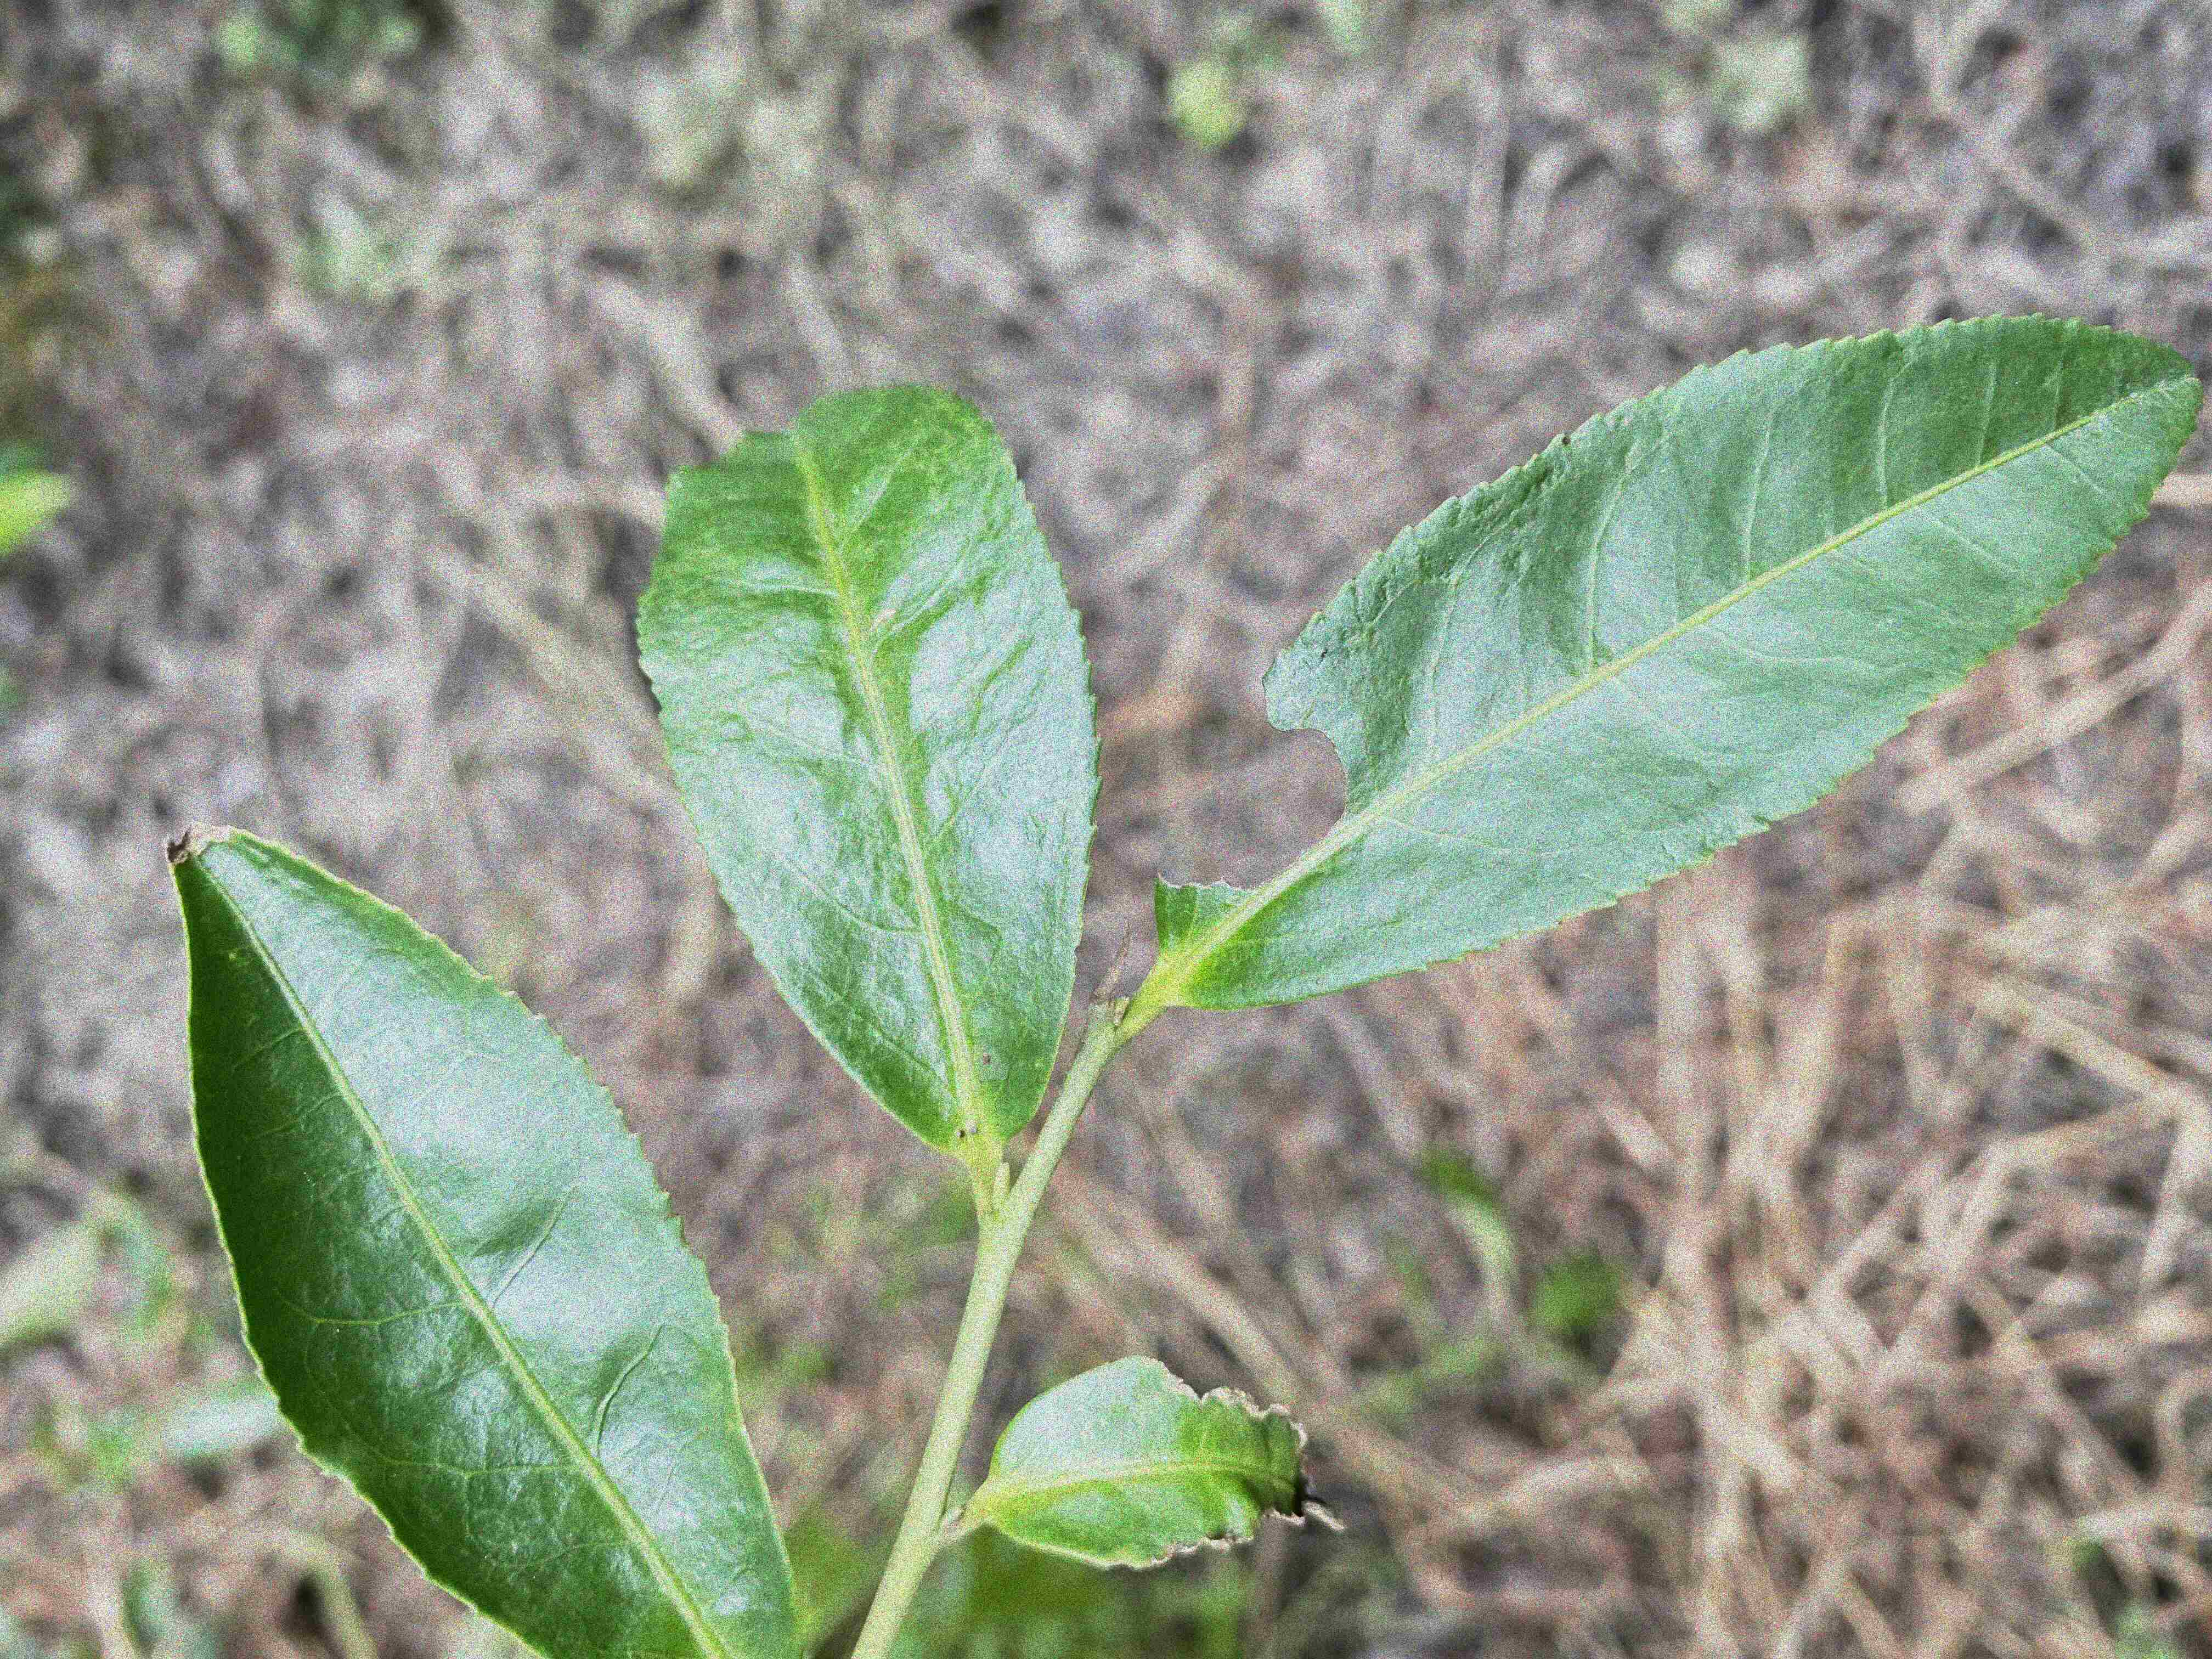chihuo_high: (975, 1351, 1350, 1574)
chihuo_low: (1150, 317, 2207, 1016)
healthy: (636, 382, 1104, 1150)
tanju_low: (164, 817, 801, 1656)
